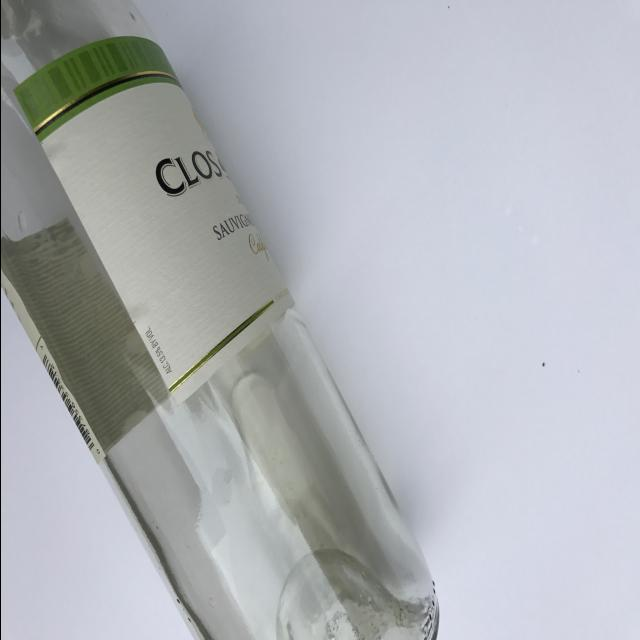glass: (0, 2, 440, 640)
